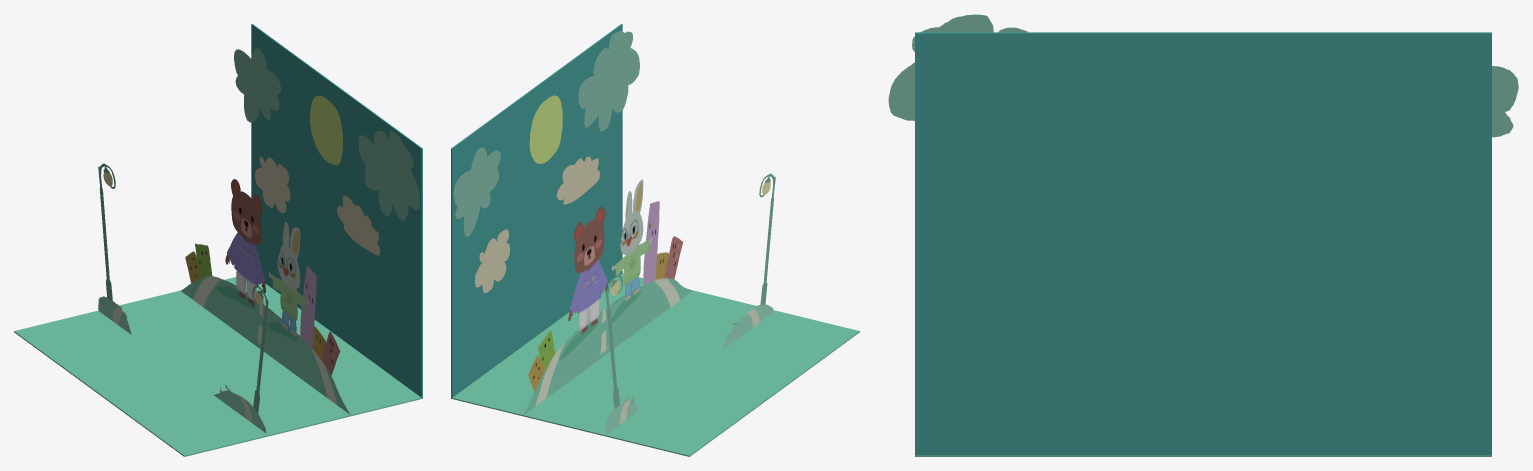
3 renders of one model, left to right at view 1: azimuth 30°, elevation 25°; view 2: azimuth 150°, elevation 25°; view 3: azimuth 270°, elevation 25°, orthographic. The views are drawn at different scales.
Visible parts, largest first — view 1: floor, ceil, main, back, front; view 2: ceil, floor, main, back, front; view 3: ceil, back, floor.
Boxes of the visible parts, x1,y1,x2,y2 form: floor: [14, 277, 422, 456]; ceil: [251, 24, 422, 398]; main: [181, 179, 350, 414]; back: [234, 48, 419, 255]; front: [98, 163, 268, 433]; ceil: [451, 24, 622, 398]; floor: [451, 273, 859, 456]; main: [523, 179, 693, 414]; back: [453, 31, 639, 293]; front: [605, 173, 775, 434]; ceil: [915, 32, 1491, 454]; back: [888, 14, 1518, 137]; floor: [915, 455, 1491, 456].
Size of the model in its own units: 6.66 by 6.84 by 9.
5 materials, 3 textured.
